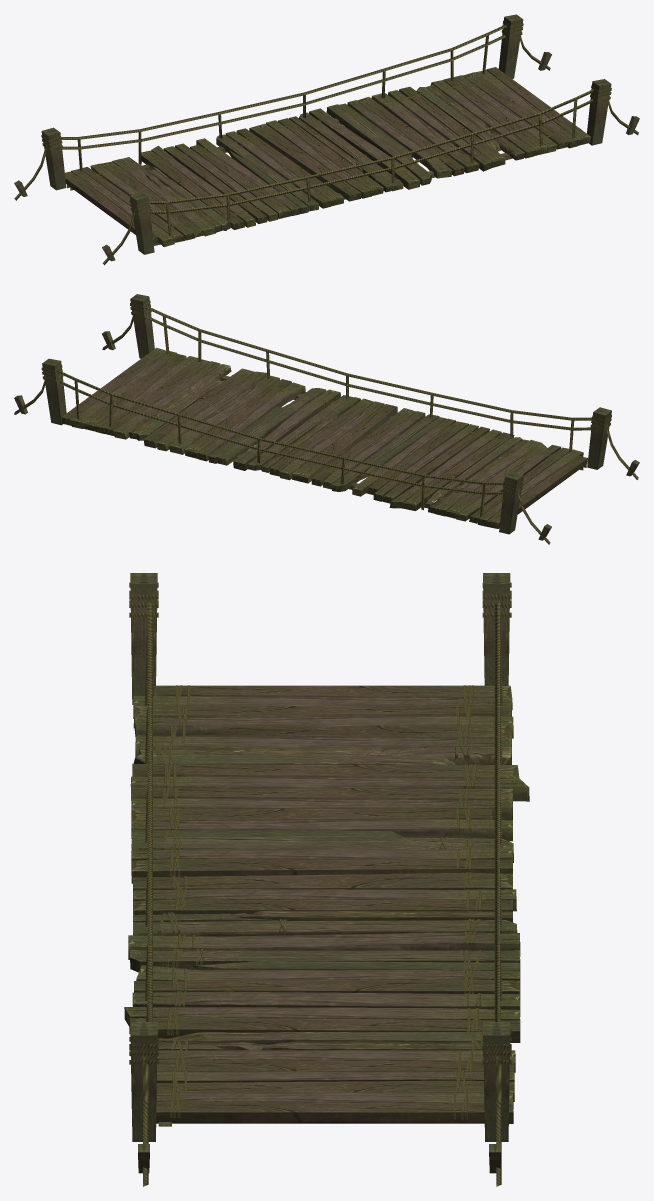
File: s7_fightpve_diaoqiao01.FBX
The picture shows the model from 3 angles, top to bottom: view 1: azimuth 30°, elevation 25°; view 2: azimuth 150°, elevation 25°; view 3: azimuth 270°, elevation 25°; orthographic projection. The views are drawn at different scales.
Parts seen in each view (by area): view 1: s7_fightpve_diaoqiao01; view 2: s7_fightpve_diaoqiao01; view 3: s7_fightpve_diaoqiao01.
Boxes of the visible parts, box(x1,y1,x2,y2) form: s7_fightpve_diaoqiao01: box(14, 14, 639, 265); s7_fightpve_diaoqiao01: box(14, 294, 639, 544); s7_fightpve_diaoqiao01: box(124, 573, 529, 1186).
Bounding box in the file's own units: 13.44 × 1.49 × 4.4.
